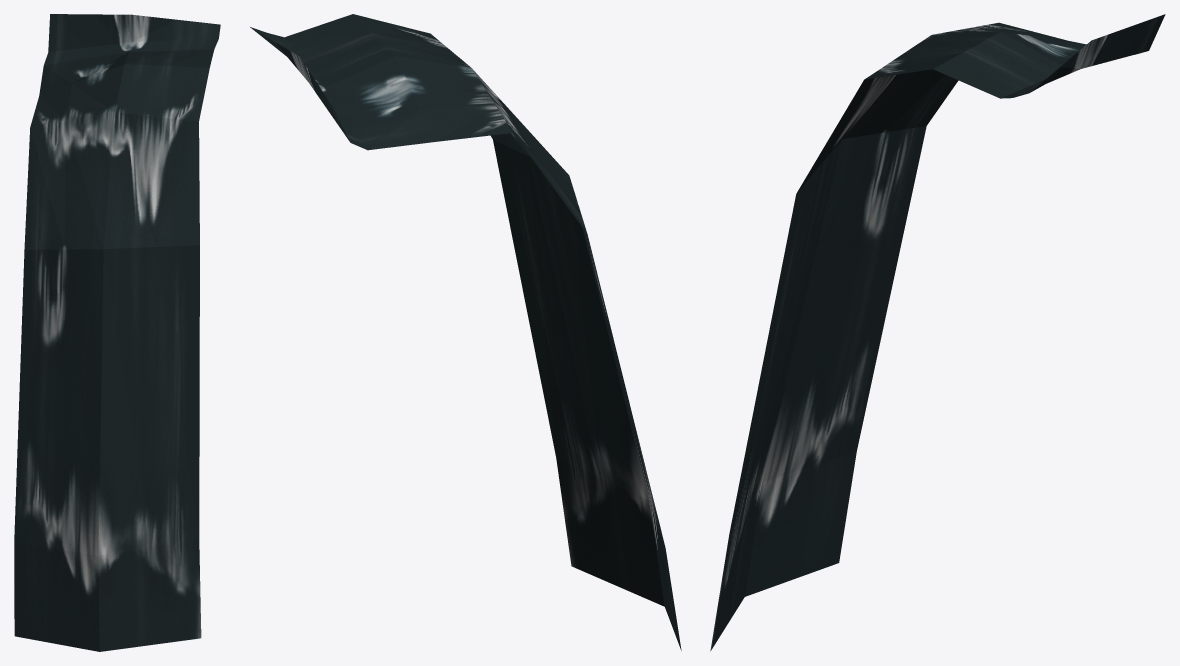
File: water_3.fbx
The picture shows the model from 3 angles, left to right: view 1: azimuth 30°, elevation 25°; view 2: azimuth 150°, elevation 25°; view 3: azimuth 270°, elevation 25°; orthographic projection. The views are drawn at different scales.
Parts seen in each view (by area): view 1: pPlane1; view 2: pPlane1; view 3: pPlane1.
Boxes of the visible parts, box(x1,y1,x2,y2) form: pPlane1: box(14, 14, 220, 651); pPlane1: box(250, 14, 681, 650); pPlane1: box(710, 14, 1165, 651).
Bounding box in the file's own units: 88.74 × 153 × 95.2.
